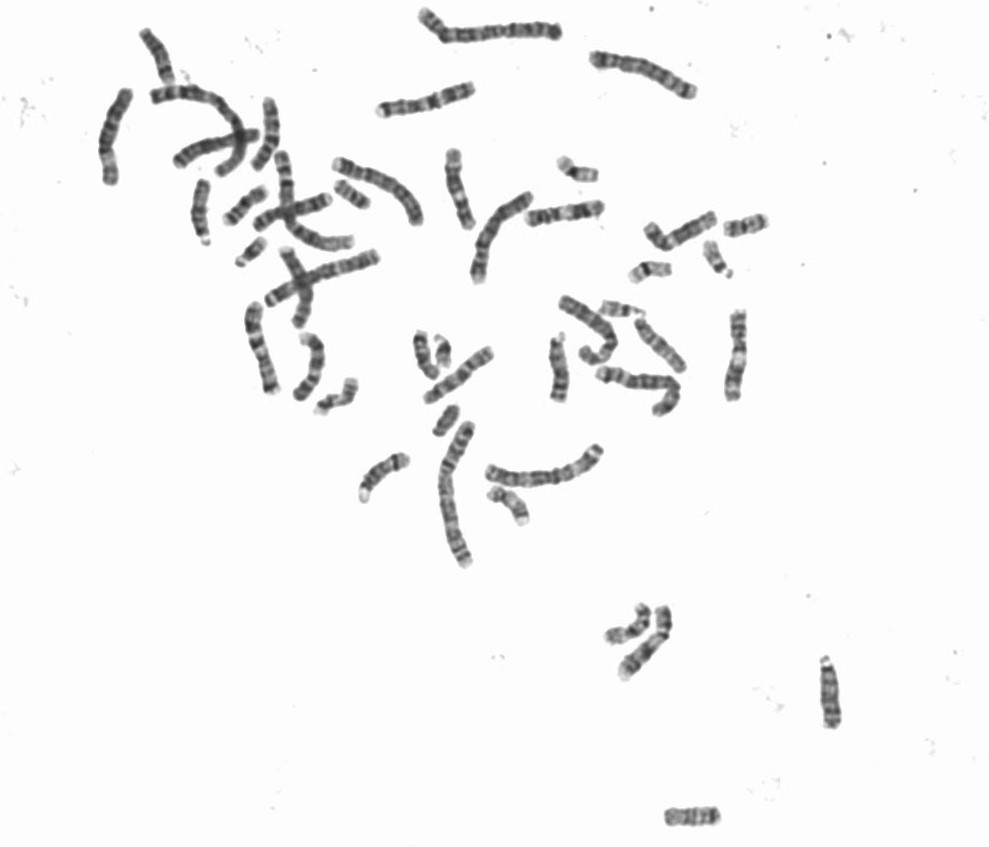chromosomes: (145, 79, 249, 191), (271, 147, 359, 258), (328, 152, 430, 231), (262, 245, 387, 307), (582, 46, 706, 108), (466, 188, 536, 295), (436, 419, 482, 576), (411, 7, 566, 49), (483, 442, 612, 488), (591, 362, 684, 425), (611, 598, 677, 679), (420, 343, 502, 407), (366, 76, 480, 122), (237, 295, 285, 403), (92, 83, 137, 194), (555, 292, 621, 367), (167, 124, 266, 173), (273, 240, 319, 334), (249, 188, 334, 235), (642, 204, 722, 253), (629, 316, 690, 380), (721, 304, 756, 408), (353, 451, 414, 509), (135, 21, 183, 91), (442, 146, 480, 234), (595, 600, 653, 655), (248, 89, 284, 171), (816, 647, 847, 738), (522, 196, 610, 228), (293, 329, 327, 406), (485, 483, 537, 533), (221, 181, 268, 227), (313, 374, 362, 418), (189, 172, 215, 253), (545, 329, 572, 406), (708, 213, 779, 242), (410, 324, 443, 382), (654, 803, 730, 827), (554, 151, 602, 187), (228, 233, 270, 274), (330, 178, 374, 213), (702, 237, 735, 282), (624, 258, 675, 286), (429, 401, 463, 441), (596, 299, 650, 322), (430, 333, 456, 372)
